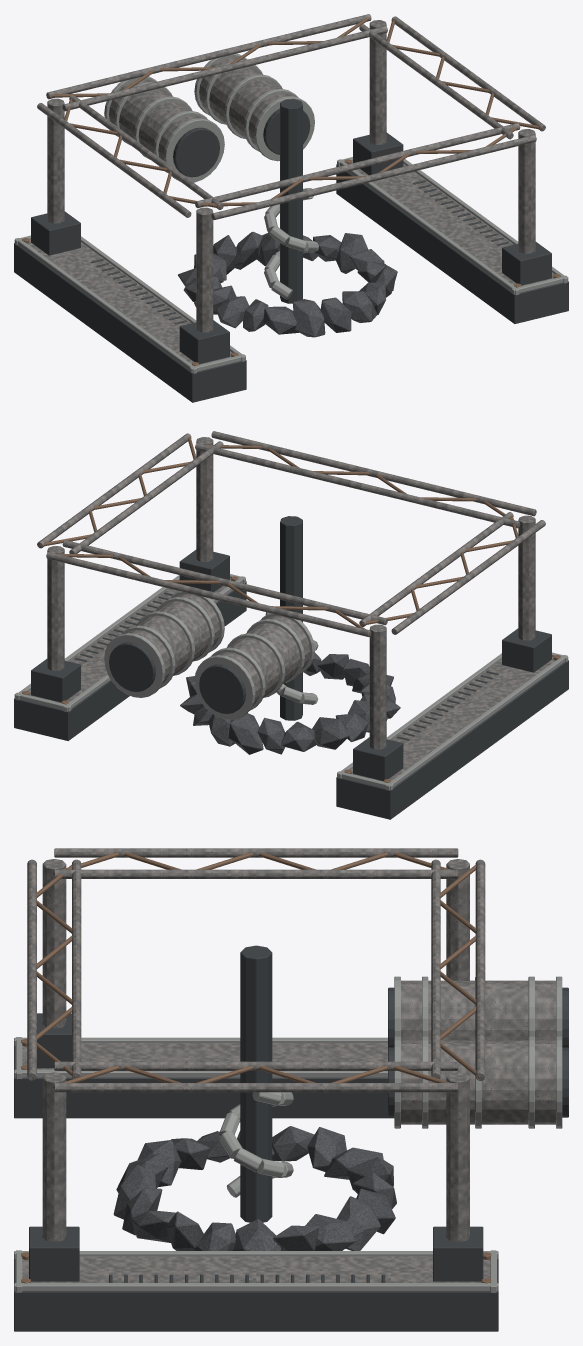
Rendered from drilling-platform.glb.
3 renders of one model, top to bottom at view 1: azimuth 30°, elevation 25°; view 2: azimuth 150°, elevation 25°; view 3: azimuth 270°, elevation 25°, orthographic. The views are drawn at different scales.
Visible parts, largest first — view 1: drilling-platform • editable solid geometry; view 2: drilling-platform • editable solid geometry; view 3: drilling-platform • editable solid geometry.
Part boxes in pixels (x1=…): drilling-platform • editable solid geometry: x1=14, y1=14, x2=568, y2=402; drilling-platform • editable solid geometry: x1=14, y1=431, x2=568, y2=819; drilling-platform • editable solid geometry: x1=14, y1=848, x2=568, y2=1331.
Bounding box in the file's own units: 5.85 × 2.95 × 5.5.
5 materials, 2 textured.
